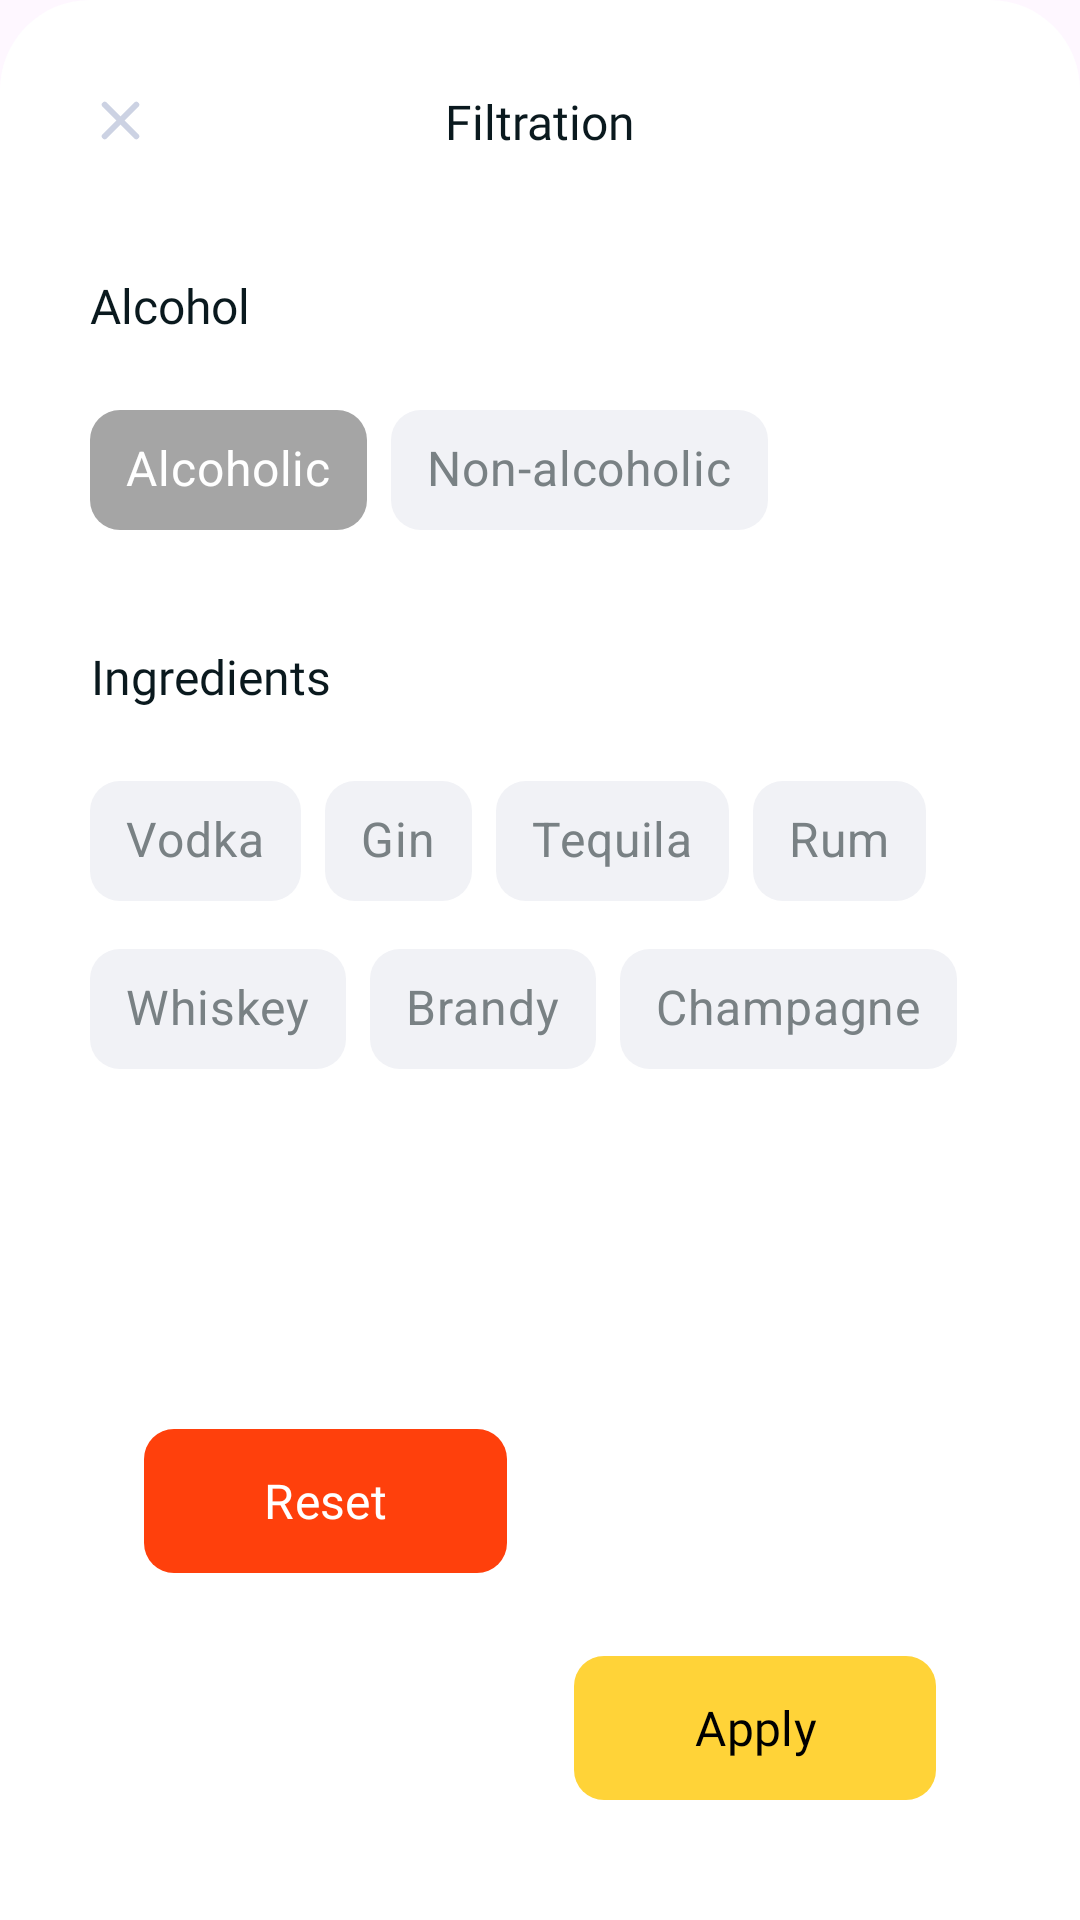

Where icons sit on this 1080 × 1920 app screen, as (x1, y1, x2, y2):
close: (102, 102, 139, 139)
